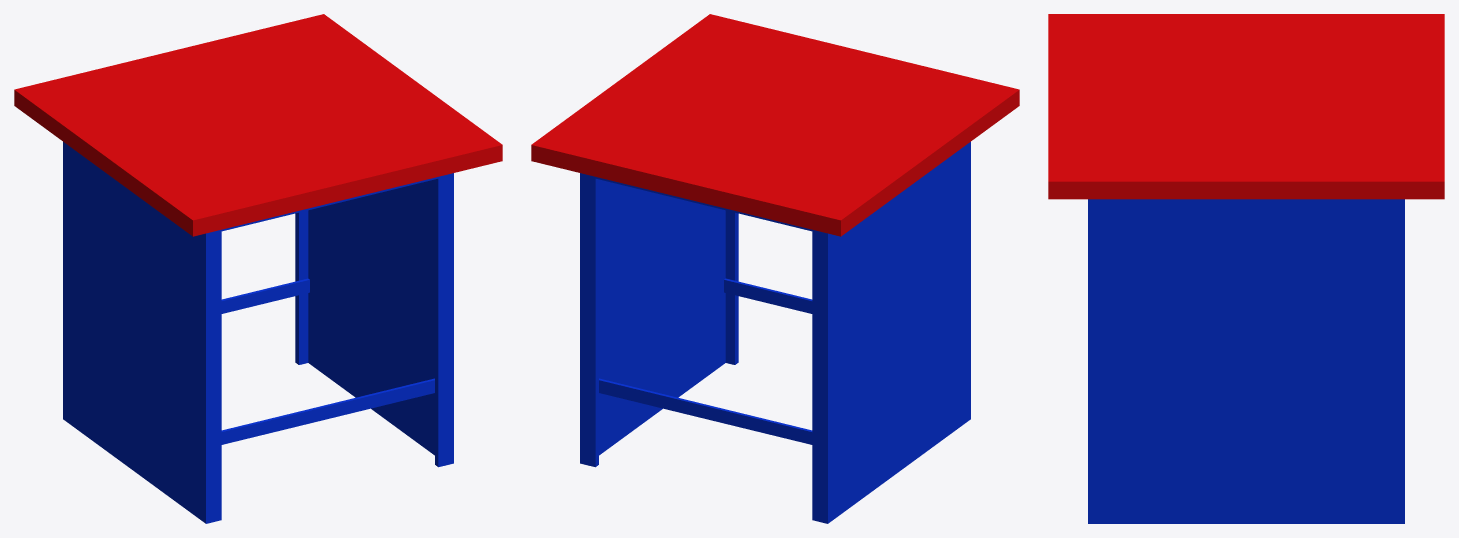
Rendered from PH_SUPPORT_TABLE.fbx.
3 renders of one model, left to right at view 1: azimuth 30°, elevation 25°; view 2: azimuth 150°, elevation 25°; view 3: azimuth 270°, elevation 25°, orthographic. The views are drawn at different scales.
Visible parts, largest first — view 1: PH_SUPPORT_TABLE; view 2: PH_SUPPORT_TABLE; view 3: PH_SUPPORT_TABLE.
Part boxes in pixels (x1,y1,x2,y2): PH_SUPPORT_TABLE: (14,14,502,523); PH_SUPPORT_TABLE: (531,14,1019,523); PH_SUPPORT_TABLE: (1048,14,1444,523).
Size of the model in its own units: 100 by 100 by 100.
